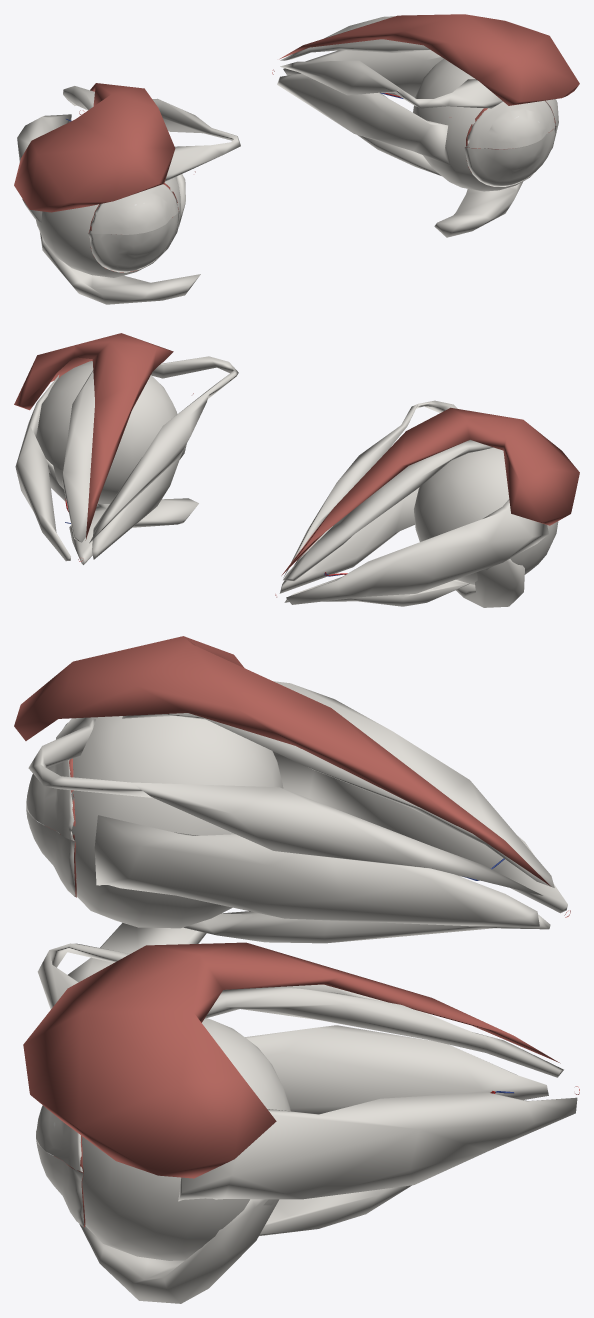
Rendered from adult_female.sensory.LOD3.glb.
3 views of the same model, one above another, from view 1: azimuth 30°, elevation 25°; view 2: azimuth 150°, elevation 25°; view 3: azimuth 270°, elevation 25° (orthographic). The views are drawn at different scales.
Parts seen in each view (by area): view 1: ADULT.FEMALE.SENSORY.LEVATOR_PALPEBRAE_SUPERIORIS.R, ADULT.FEMALE.SENSORY.LEVATOR_PALPEBRAE_SUPERIORIS.L, ADULT.FEMALE.SENSORY.MEDIAL_RECTUS_EXTRAOCULAR_MUSCLE.L, ADULT.FEMALE.SENSORY.SCLERA.L, ADULT.FEMALE.SENSORY.SUPERIOR_OBLIQUE_EXTRAOCULAR_MUSCLE.L, ADULT.FEMALE.SENSORY.SCLERA.R, ADULT.FEMALE.SENSORY.PALPEBRAL_CONJUNCTIVA_OF_LEFT_UPPER_EYE, ADULT.FEMALE.SENSORY.INFERIOR_OBLIQUE_EXTRAOCULAR_MUSCLE.R, ADULT.FEMALE.SENSORY.PALPEBRAL_CONJUNCTIVA_OF_RIGHT_UPPER_EY, ADULT.FEMALE.SENSORY.PALPEBRAL_CONJUNCTIVA_OF_LEFT_LOWER_EYE, ADULT.FEMALE.SENSORY.PALPEBRAL_CONJUNCTIVA_OF_RIGHT_LOWER_EY, ADULT.FEMALE.SENSORY.LATERAL_RECTUS_EXTRAOCULAR_MUSCLE.L (+6 smaller); view 2: ADULT.FEMALE.SENSORY.LEVATOR_PALPEBRAE_SUPERIORIS.R, ADULT.FEMALE.SENSORY.LATERAL_RECTUS_EXTRAOCULAR_MUSCLE.R, ADULT.FEMALE.SENSORY.LEVATOR_PALPEBRAE_SUPERIORIS.L, ADULT.FEMALE.SENSORY.SCLERA.R, ADULT.FEMALE.SENSORY.SCLERA.L, ADULT.FEMALE.SENSORY.SUPERIOR_OBLIQUE_EXTRAOCULAR_MUSCLE.L, ADULT.FEMALE.SENSORY.SUPERIOR_RECTUS_EXTRAOCULAR_MUSCLE.R, ADULT.FEMALE.SENSORY.SUPERIOR_RECTUS_EXTRAOCULAR_MUSCLE.L, ADULT.FEMALE.SENSORY.MEDIAL_RECTUS_EXTRAOCULAR_MUSCLE.R, ADULT.FEMALE.SENSORY.LATERAL_RECTUS_EXTRAOCULAR_MUSCLE.L, ADULT.FEMALE.SENSORY.SUPERIOR_OBLIQUE_EXTRAOCULAR_MUSCLE.R, ADULT.FEMALE.SENSORY.MEDIAL_RECTUS_EXTRAOCULAR_MUSCLE.L (+4 smaller); view 3: ADULT.FEMALE.SENSORY.LEVATOR_PALPEBRAE_SUPERIORIS.L, ADULT.FEMALE.SENSORY.MEDIAL_RECTUS_EXTRAOCULAR_MUSCLE.R, ADULT.FEMALE.SENSORY.LEVATOR_PALPEBRAE_SUPERIORIS.R, ADULT.FEMALE.SENSORY.LATERAL_RECTUS_EXTRAOCULAR_MUSCLE.L, ADULT.FEMALE.SENSORY.SCLERA.R, ADULT.FEMALE.SENSORY.SUPERIOR_OBLIQUE_EXTRAOCULAR_MUSCLE.R, ADULT.FEMALE.SENSORY.MEDIAL_RECTUS_EXTRAOCULAR_MUSCLE.L, ADULT.FEMALE.SENSORY.SCLERA.L, ADULT.FEMALE.SENSORY.SUPERIOR_RECTUS_EXTRAOCULAR_MUSCLE.R, ADULT.FEMALE.SENSORY.SUPERIOR_RECTUS_EXTRAOCULAR_MUSCLE.L, ADULT.FEMALE.SENSORY.LATERAL_RECTUS_EXTRAOCULAR_MUSCLE.R, ADULT.FEMALE.SENSORY.INFERIOR_OBLIQUE_EXTRAOCULAR_MUSCLE.L (+8 smaller).
Boxes of the visible parts, left/top/right/bottom form: ADULT.FEMALE.SENSORY.LEVATOR_PALPEBRAE_SUPERIORIS.R: left=14, top=83, right=175, bottom=212; ADULT.FEMALE.SENSORY.LEVATOR_PALPEBRAE_SUPERIORIS.L: left=279, top=14, right=579, bottom=105; ADULT.FEMALE.SENSORY.MEDIAL_RECTUS_EXTRAOCULAR_MUSCLE.L: left=277, top=73, right=450, bottom=165; ADULT.FEMALE.SENSORY.SCLERA.L: left=413, top=58, right=558, bottom=191; ADULT.FEMALE.SENSORY.SUPERIOR_OBLIQUE_EXTRAOCULAR_MUSCLE.L: left=280, top=60, right=502, bottom=108; ADULT.FEMALE.SENSORY.SCLERA.R: left=35, top=177, right=180, bottom=277; ADULT.FEMALE.SENSORY.PALPEBRAL_CONJUNCTIVA_OF_LEFT_UPPER_EYE: left=466, top=100, right=555, bottom=149; ADULT.FEMALE.SENSORY.INFERIOR_OBLIQUE_EXTRAOCULAR_MUSCLE.R: left=39, top=231, right=200, bottom=304; ADULT.FEMALE.SENSORY.PALPEBRAL_CONJUNCTIVA_OF_RIGHT_UPPER_EY: left=89, top=184, right=178, bottom=234; ADULT.FEMALE.SENSORY.PALPEBRAL_CONJUNCTIVA_OF_LEFT_LOWER_EYE: left=464, top=125, right=556, bottom=186; ADULT.FEMALE.SENSORY.PALPEBRAL_CONJUNCTIVA_OF_RIGHT_LOWER_EY: left=88, top=211, right=179, bottom=272; ADULT.FEMALE.SENSORY.LATERAL_RECTUS_EXTRAOCULAR_MUSCLE.L: left=283, top=50, right=443, bottom=97; ADULT.FEMALE.SENSORY.LEVATOR_PALPEBRAE_SUPERIORIS.R: left=281, top=407, right=579, bottom=575; ADULT.FEMALE.SENSORY.LATERAL_RECTUS_EXTRAOCULAR_MUSCLE.R: left=286, top=499, right=548, bottom=604; ADULT.FEMALE.SENSORY.LEVATOR_PALPEBRAE_SUPERIORIS.L: left=14, top=333, right=173, bottom=540; ADULT.FEMALE.SENSORY.SCLERA.R: left=414, top=447, right=558, bottom=585; ADULT.FEMALE.SENSORY.SCLERA.L: left=36, top=361, right=177, bottom=504; ADULT.FEMALE.SENSORY.SUPERIOR_OBLIQUE_EXTRAOCULAR_MUSCLE.L: left=89, top=356, right=238, bottom=543; ADULT.FEMALE.SENSORY.SUPERIOR_RECTUS_EXTRAOCULAR_MUSCLE.R: left=283, top=440, right=493, bottom=580; ADULT.FEMALE.SENSORY.SUPERIOR_RECTUS_EXTRAOCULAR_MUSCLE.L: left=62, top=370, right=94, bottom=542; ADULT.FEMALE.SENSORY.MEDIAL_RECTUS_EXTRAOCULAR_MUSCLE.R: left=279, top=487, right=419, bottom=593; ADULT.FEMALE.SENSORY.LATERAL_RECTUS_EXTRAOCULAR_MUSCLE.L: left=15, top=375, right=70, bottom=561; ADULT.FEMALE.SENSORY.SUPERIOR_OBLIQUE_EXTRAOCULAR_MUSCLE.R: left=283, top=400, right=457, bottom=577; ADULT.FEMALE.SENSORY.MEDIAL_RECTUS_EXTRAOCULAR_MUSCLE.L: left=92, top=444, right=186, bottom=559; ADULT.FEMALE.SENSORY.LEVATOR_PALPEBRAE_SUPERIORIS.L: left=23, top=942, right=560, bottom=1178; ADULT.FEMALE.SENSORY.MEDIAL_RECTUS_EXTRAOCULAR_MUSCLE.R: left=94, top=815, right=539, bottom=926; ADULT.FEMALE.SENSORY.LEVATOR_PALPEBRAE_SUPERIORIS.R: left=14, top=636, right=551, bottom=886; ADULT.FEMALE.SENSORY.LATERAL_RECTUS_EXTRAOCULAR_MUSCLE.L: left=178, top=1092, right=577, bottom=1201; ADULT.FEMALE.SENSORY.SCLERA.R: left=58, top=716, right=283, bottom=928; ADULT.FEMALE.SENSORY.SUPERIOR_OBLIQUE_EXTRAOCULAR_MUSCLE.R: left=28, top=717, right=542, bottom=895; ADULT.FEMALE.SENSORY.MEDIAL_RECTUS_EXTRAOCULAR_MUSCLE.L: left=245, top=1025, right=548, bottom=1114; ADULT.FEMALE.SENSORY.SCLERA.L: left=82, top=1018, right=290, bottom=1260; ADULT.FEMALE.SENSORY.SUPERIOR_RECTUS_EXTRAOCULAR_MUSCLE.R: left=122, top=681, right=554, bottom=887; ADULT.FEMALE.SENSORY.SUPERIOR_RECTUS_EXTRAOCULAR_MUSCLE.L: left=205, top=987, right=563, bottom=1077; ADULT.FEMALE.SENSORY.LATERAL_RECTUS_EXTRAOCULAR_MUSCLE.R: left=272, top=751, right=567, bottom=913; ADULT.FEMALE.SENSORY.INFERIOR_OBLIQUE_EXTRAOCULAR_MUSCLE.L: left=79, top=1199, right=279, bottom=1303.
Size of the model in its own units: 0.1053 by 0.038 by 0.0557.
